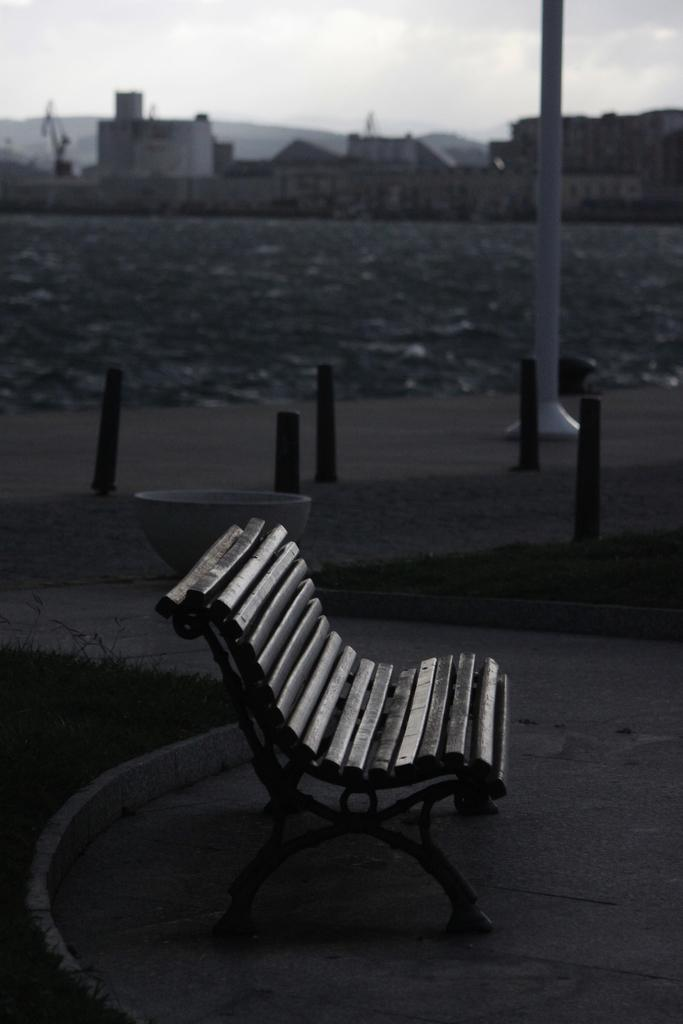Chair: (152, 506, 523, 940)
